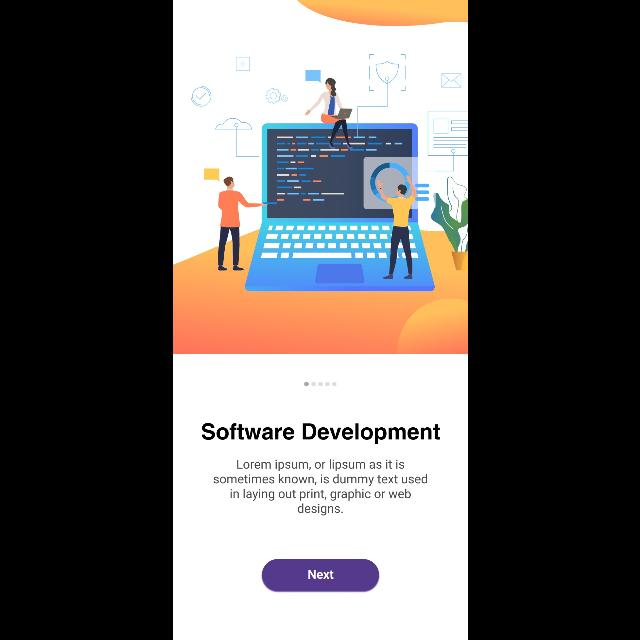image: (172, 54, 468, 354)
pageindicator: (304, 382, 336, 386)
text: (213, 459, 427, 515), (201, 424, 439, 444)
textbutton: (262, 559, 378, 591)
